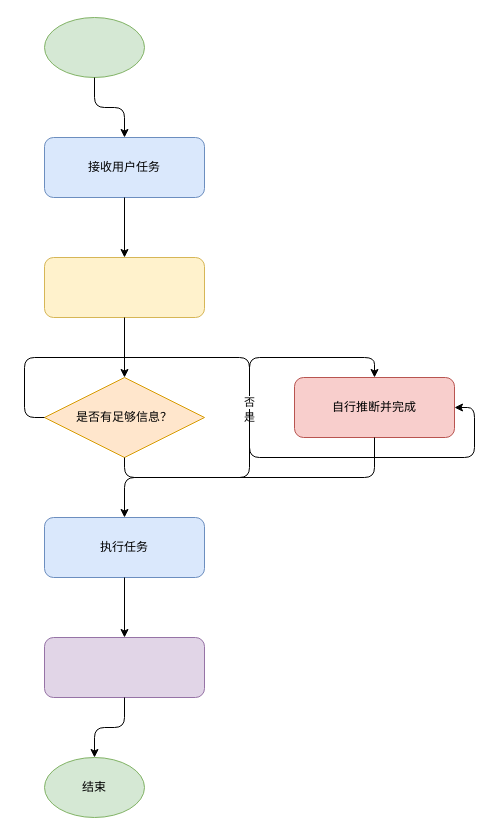
The diagram is 500 pixels wide and 835 high, and some of its shapes have lost their labels. Here are the shapes that lost their labels. From the top down, the centre of each, then its label:
At point (94, 47): "开始".
At point (124, 287): "分析任务需求".
At point (124, 667): "生成结果并保存".
